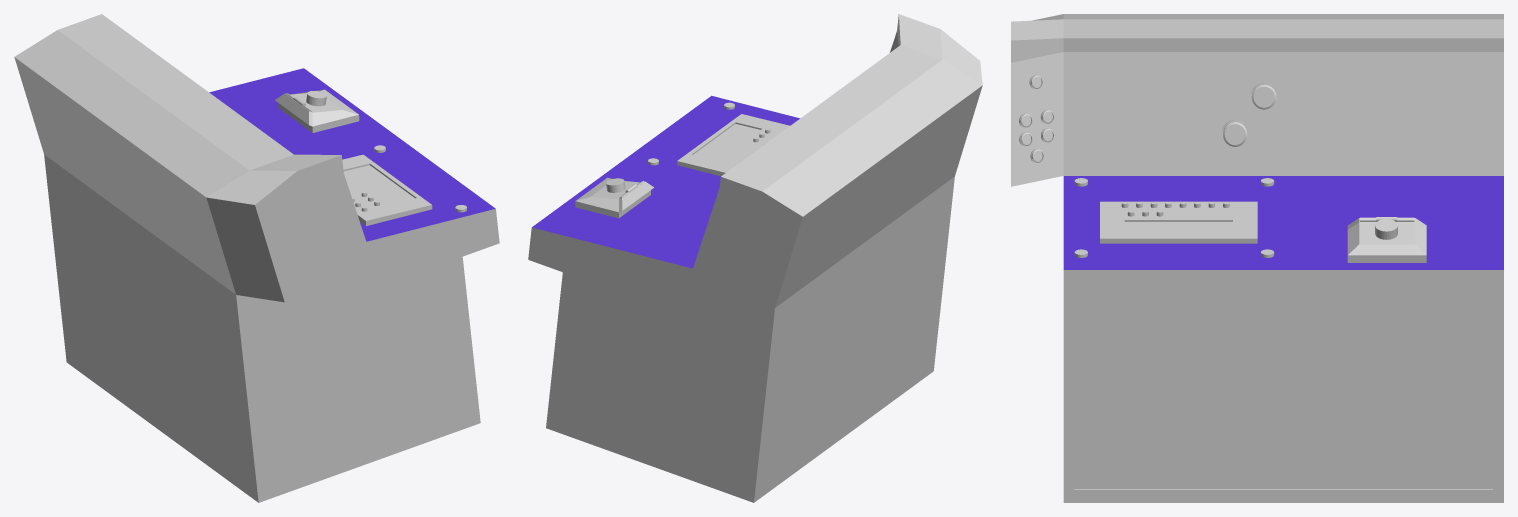
The picture shows the model from 3 angles, left to right: view 1: azimuth 30°, elevation 25°; view 2: azimuth 150°, elevation 25°; view 3: azimuth 270°, elevation 25°; orthographic projection. The views are drawn at different scales.
Visible parts, largest first — view 1: Cylinder.010; view 2: Cylinder.010; view 3: Cylinder.010.
Part boxes in pixels (x1,y1,x2,y2): Cylinder.010: (14,14,499,502); Cylinder.010: (528,14,982,502); Cylinder.010: (1011,14,1503,502).
Size of the model in its own units: 126 by 160 by 144.
